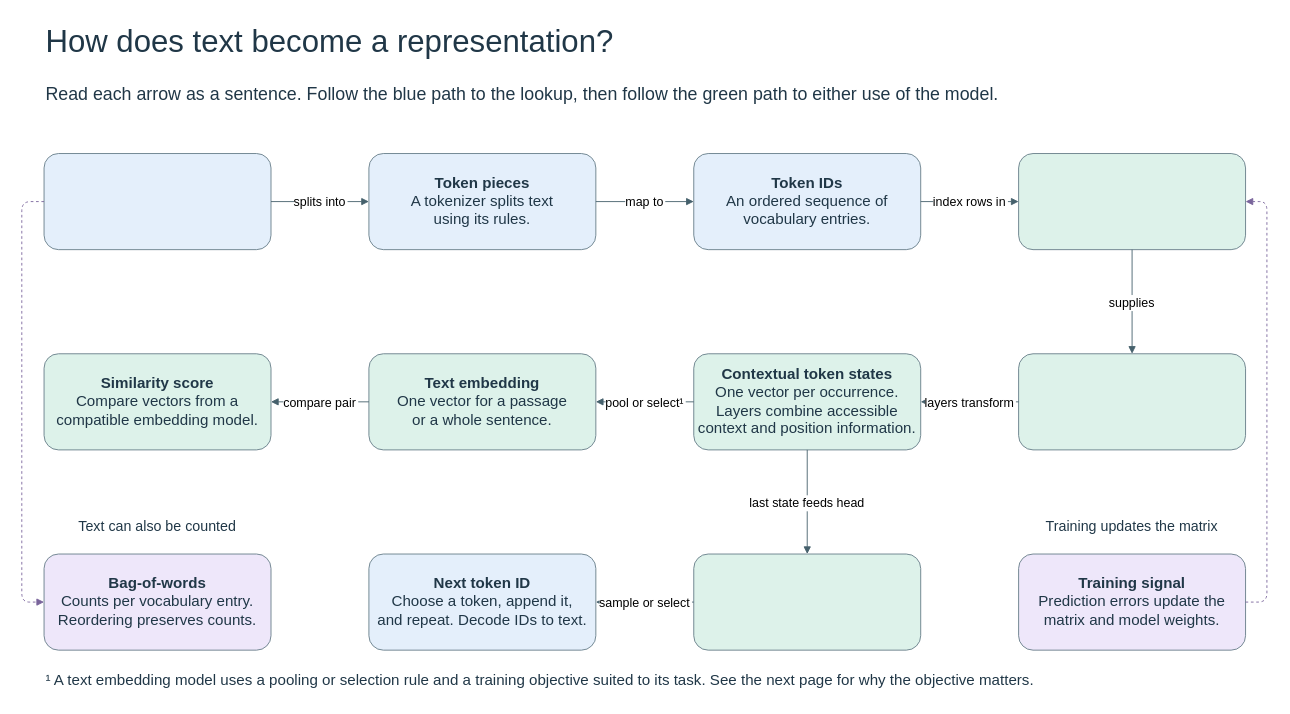
The diagram is 1290 pixels wide and 714 high, and some of its shapes have lost their labels. The box of each missing label's shape, as (x1, y1, x2, y2) in pixels:
Embedding matrix One learned row per entry. Each row is a list of numbers.: (1018, 153, 1246, 250)
Input text A sequence of characters.: (43, 153, 271, 250)
Input token vectors One lookup per ID. Repeated IDs retrieve the same row.: (1018, 353, 1246, 450)
Next-token probabilities A generative model scores possible next tokens.: (693, 553, 921, 650)
